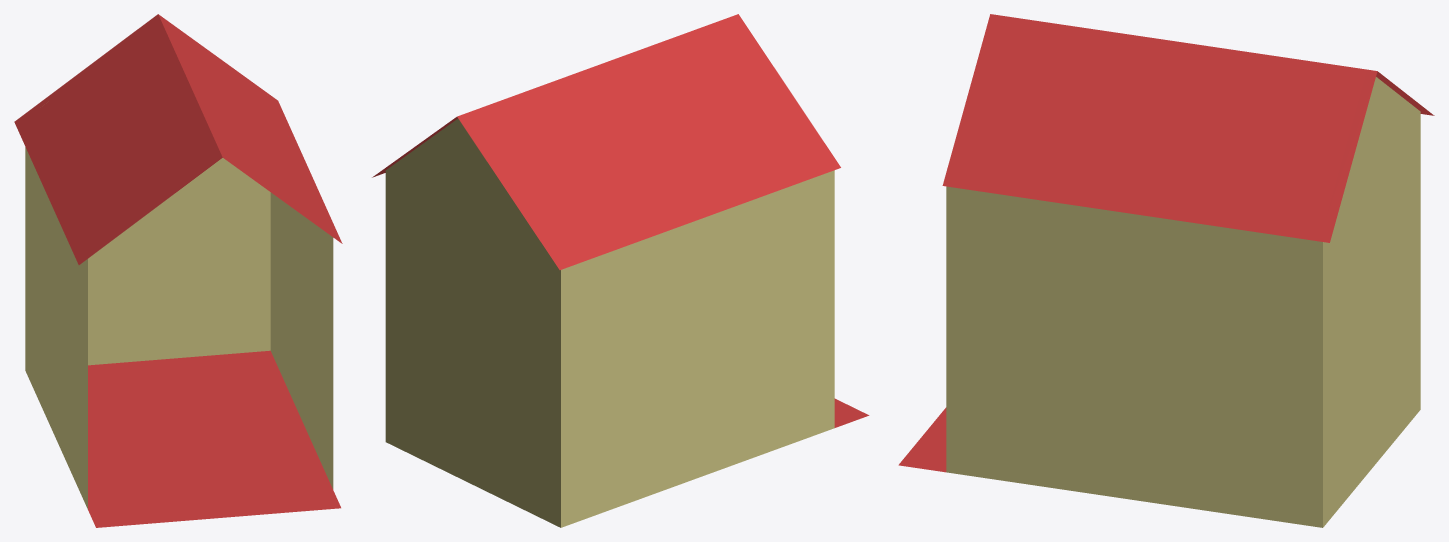
3 renders of one model, left to right at view 1: azimuth 30°, elevation 25°; view 2: azimuth 150°, elevation 25°; view 3: azimuth 270°, elevation 25°, orthographic. The views are drawn at different scales.
Size of the model in its own units: 9.9 by 12.02 by 10.01.
